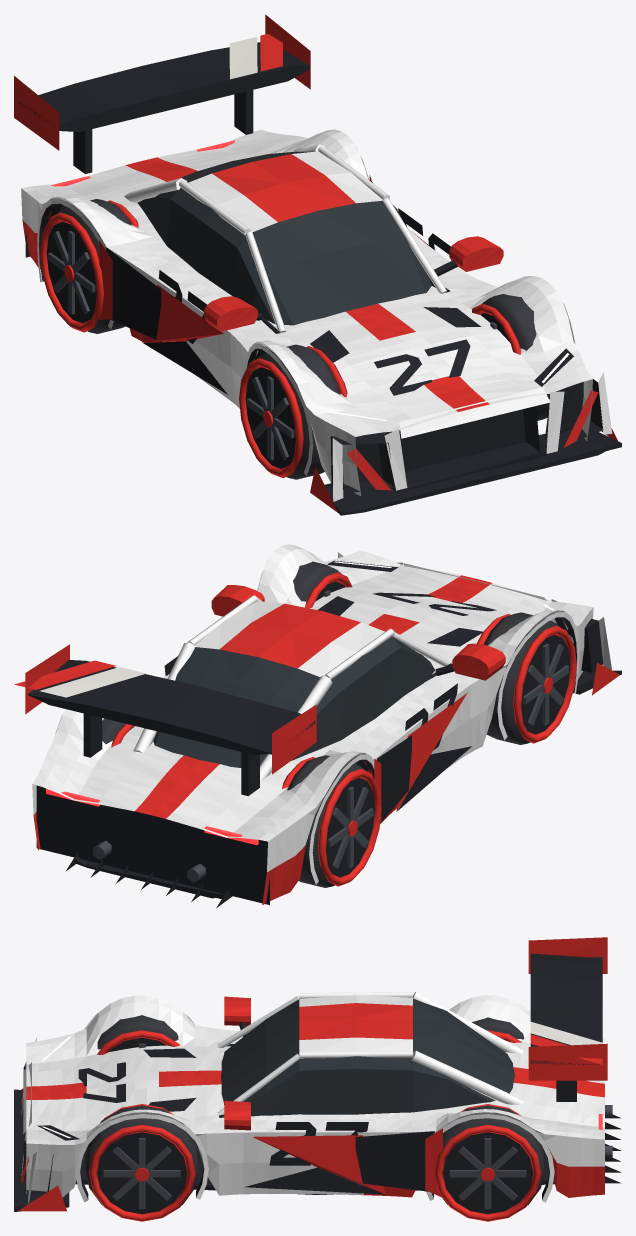
The picture shows the model from 3 angles, top to bottom: view 1: azimuth 30°, elevation 25°; view 2: azimuth 150°, elevation 25°; view 3: azimuth 270°, elevation 25°; orthographic projection. The views are drawn at different scales.
Parts seen in each view (by area): view 1: white:2, black:2, glass:2, red:2, black:0 (×3), red:0 (×2), rubber:0 (×3), white:0, metal:0 (×2), whiteAccent:2; view 2: white:2, black:2, red:2, glass:2, black:0 (×3), red:0 (×3), rubber:0 (×3), metal:0 (×3), white:0, whiteAccent:2, tail:0; view 3: white:2, glass:2, red:2, black:2, black:0 (×3), red:0 (×3), rubber:0 (×4), white:0, metal:0 (×2), whiteAccent:2.
Boxes of the visible parts, x1,y1,x2,y2 form: white:2: (21, 129, 612, 501); black:2: (18, 42, 621, 515); glass:2: (137, 151, 435, 325); red:2: (14, 14, 617, 513); black:0 (×3): (46, 90, 457, 468); red:0 (×2): (40, 200, 347, 478); rubber:0 (×3): (57, 199, 549, 479); white:0: (124, 144, 446, 332); metal:0 (×2): (48, 231, 294, 459); whiteAccent:2: (229, 37, 257, 79); white:2: (32, 544, 611, 884); black:2: (28, 560, 621, 907); red:2: (14, 575, 619, 904); glass:2: (153, 636, 435, 767); black:0 (×3): (83, 634, 570, 877); red:0 (×3): (282, 572, 576, 886); rubber:0 (×3): (287, 561, 560, 887); metal:0 (×3): (93, 643, 568, 882); white:0: (133, 595, 450, 781); whiteAccent:2: (40, 667, 146, 697); tail:0: (46, 789, 258, 845); white:2: (21, 995, 604, 1203); glass:2: (221, 998, 514, 1115); red:2: (18, 937, 607, 1211); black:2: (14, 953, 621, 1211); black:0 (×3): (97, 1022, 576, 1214); red:0 (×3): (88, 1030, 541, 1221); rubber:0 (×4): (84, 1015, 545, 1205); white:0: (217, 992, 523, 1115); metal:0 (×2): (103, 1138, 526, 1208); whiteAccent:2: (530, 1022, 602, 1045).
Size of the model in its own units: 2.8 by 1.9 by 5.93.
